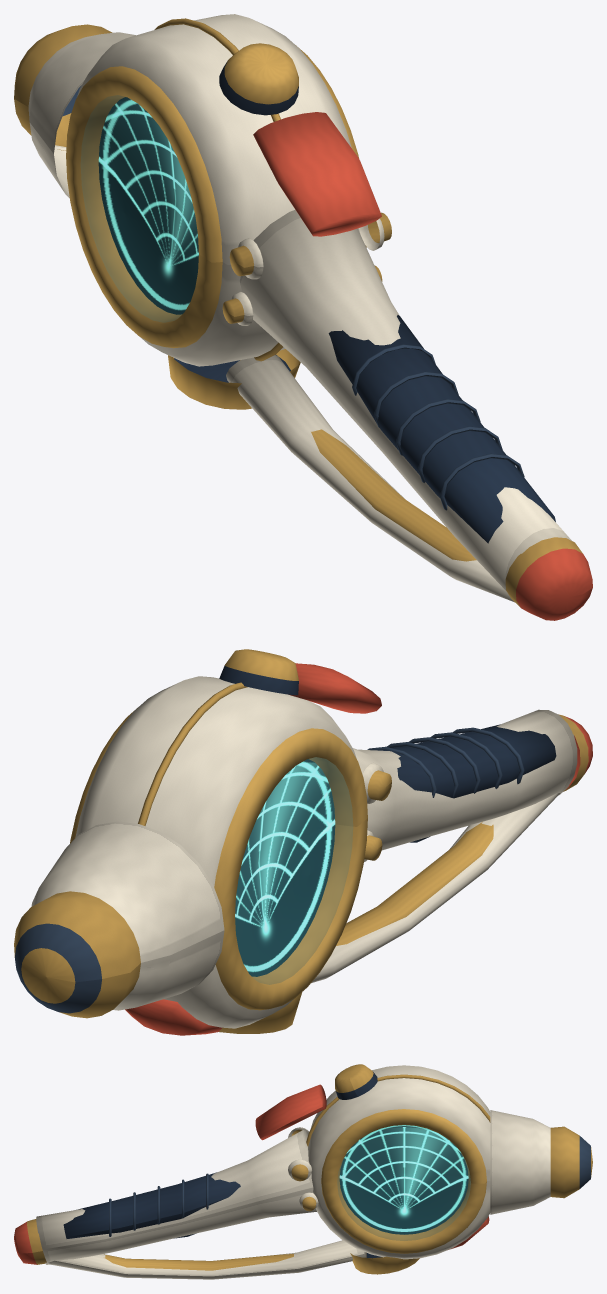
File: weapon_sonic.glb
The picture shows the model from 3 angles, top to bottom: view 1: azimuth 30°, elevation 25°; view 2: azimuth 150°, elevation 25°; view 3: azimuth 270°, elevation 25°; orthographic projection. The views are drawn at different scales.
Visible parts, largest first — view 1: weapon_sonic; view 2: weapon_sonic; view 3: weapon_sonic.
Boxes of the visible parts, <box> form: weapon_sonic: <box>14,14,592,620</box>; weapon_sonic: <box>14,649,592,1035</box>; weapon_sonic: <box>14,1064,592,1279</box>.
Size of the model in its own units: 0.178 by 0.348 by 0.87.
2 materials, 2 textured.
